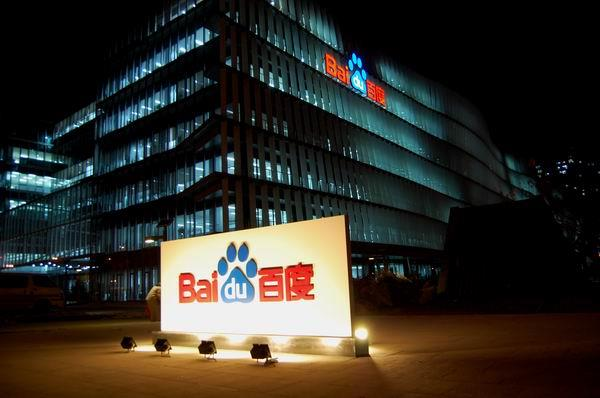baidu: (175, 238, 315, 310)
